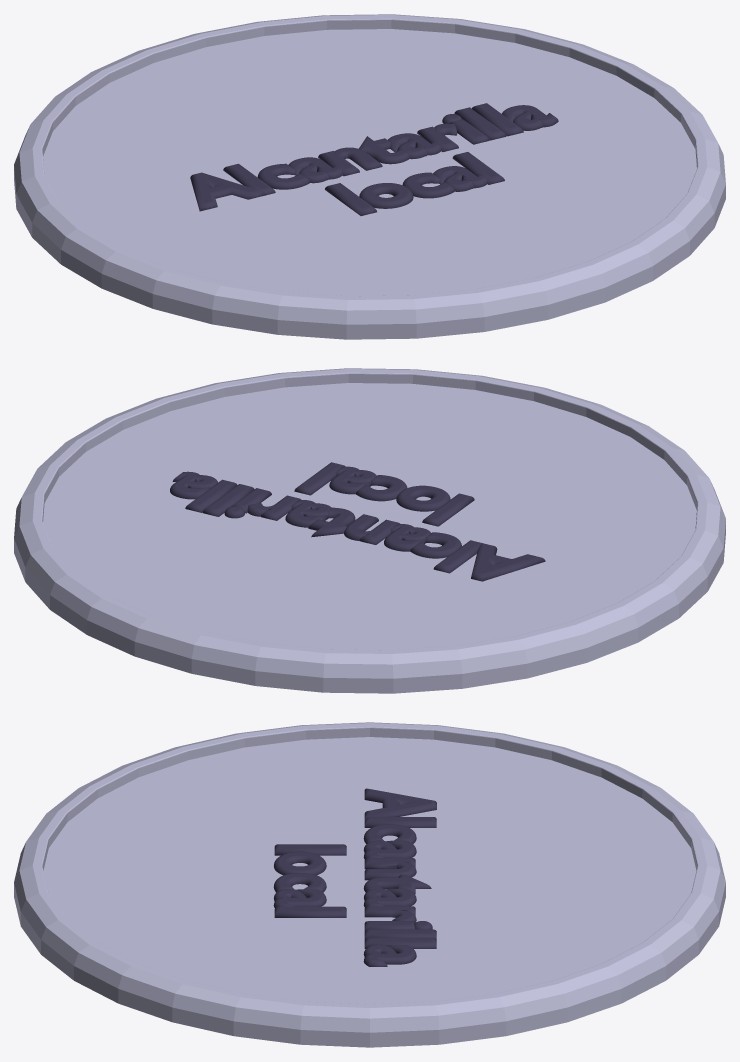
File: alcantarilla.fbx
The picture shows the model from 3 angles, top to bottom: view 1: azimuth 30°, elevation 25°; view 2: azimuth 150°, elevation 25°; view 3: azimuth 270°, elevation 25°; orthographic projection.
Visible parts, largest first — view 1: Circle; view 2: Circle; view 3: Circle.
Boxes of the visible parts, <box> form: Circle: <box>14,14,725,339</box>; Circle: <box>14,368,725,693</box>; Circle: <box>14,722,725,1047</box>.
Bounding box in the file's own units: 331 × 16.23 × 331.
